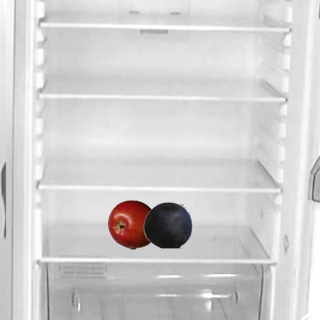Apple Braeburn: (107, 199, 157, 249)
Grape Blue: (142, 199, 192, 249)
